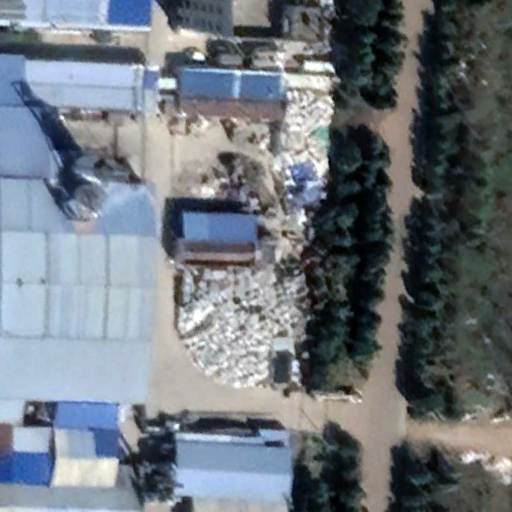msw: (171, 262, 307, 387), (276, 82, 333, 208)
